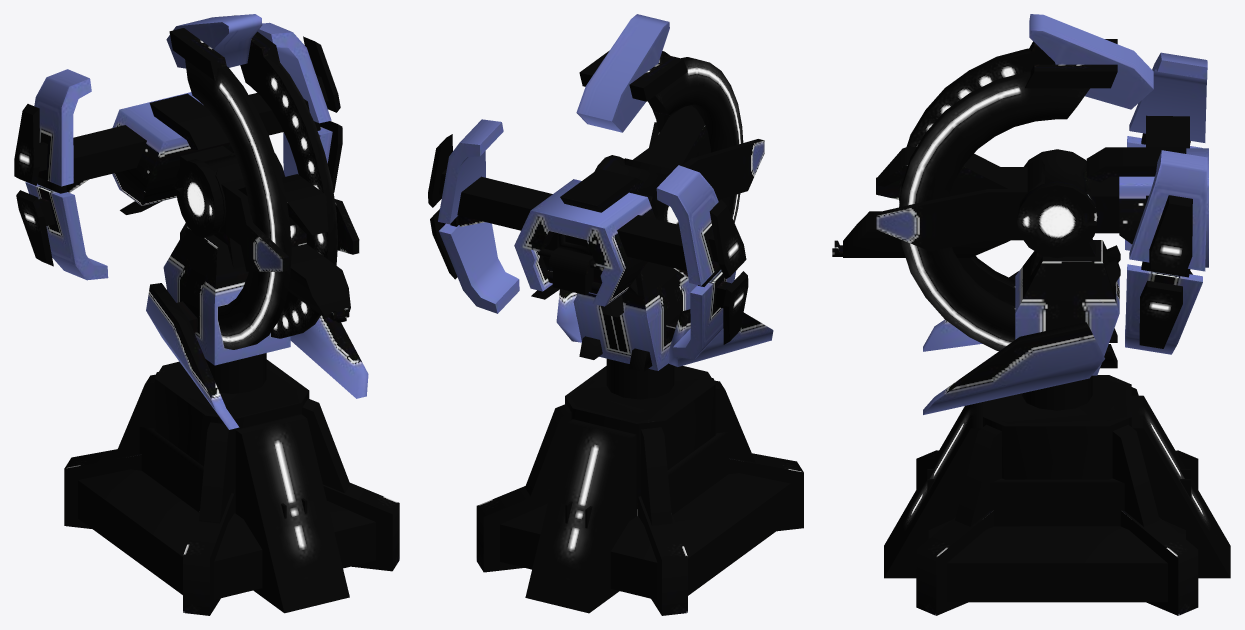
3 renders of one model, left to right at view 1: azimuth 30°, elevation 25°; view 2: azimuth 150°, elevation 25°; view 3: azimuth 270°, elevation 25°, orthographic. The views are drawn at different scales.
Visible parts, largest first — view 1: turret-laser; view 2: turret-laser; view 3: turret-laser.
Part boxes in pixels (<box>): turret-laser: <box>14,14,399,615</box>; turret-laser: <box>428,14,803,615</box>; turret-laser: <box>832,14,1230,615</box>.
Size of the model in its own units: 4.6 by 7.53 by 5.04.
Materials: 1 (1 with a texture image).
